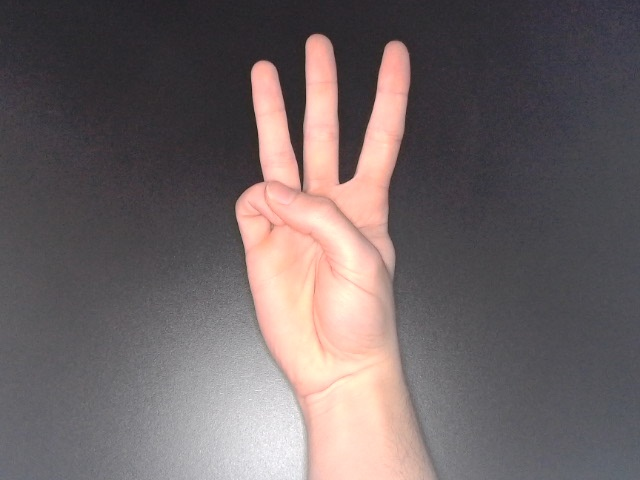w: (229, 28, 416, 405)
